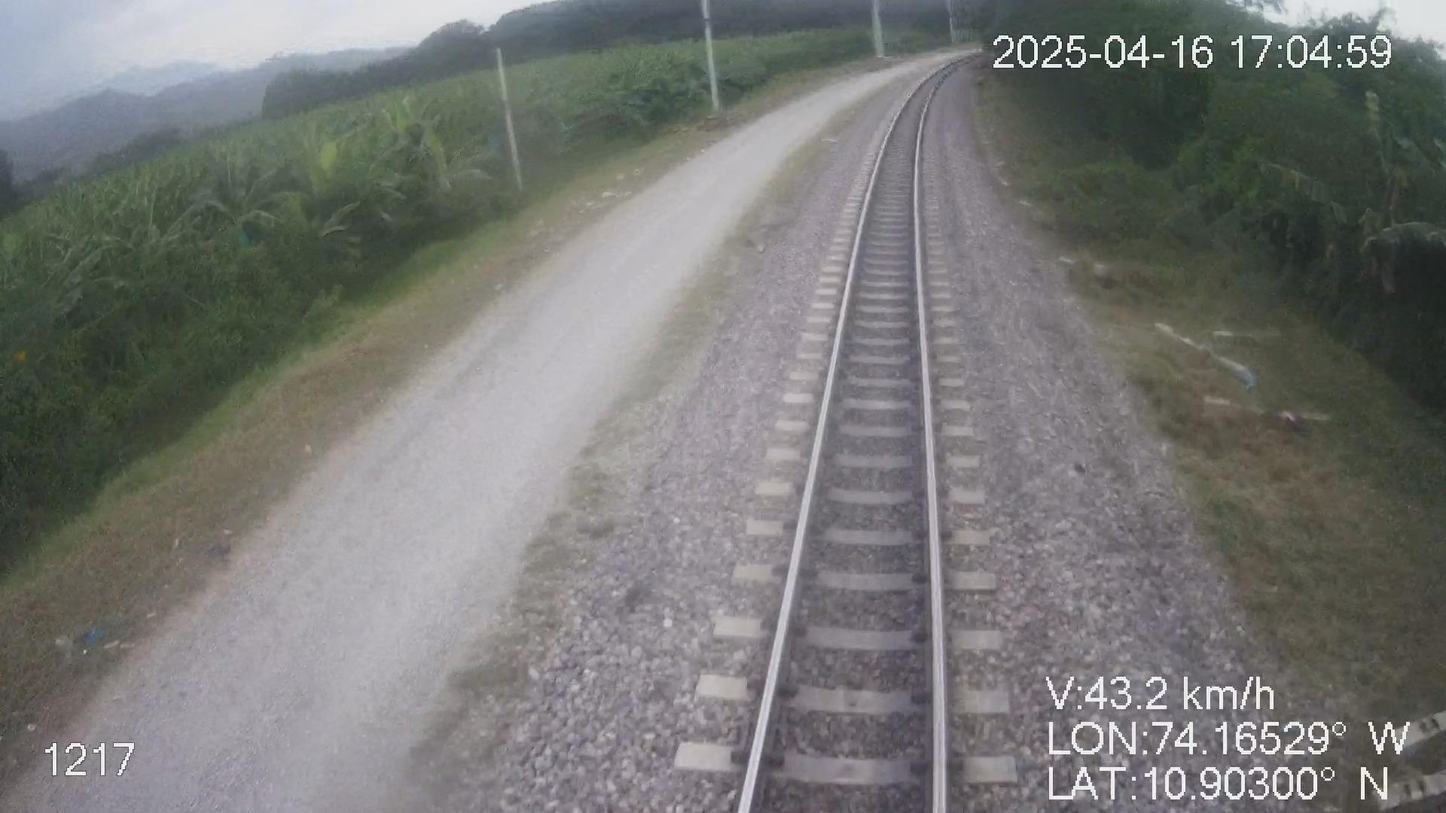Pasto: (0, 0, 951, 729), (979, 0, 1445, 724)
